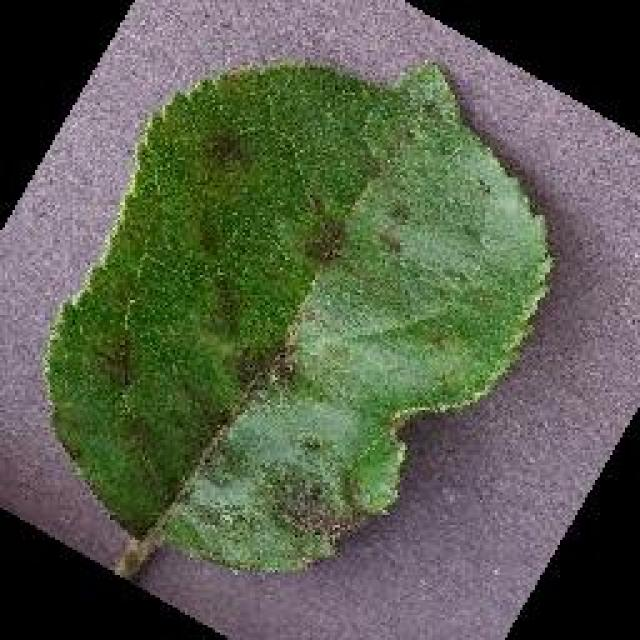apple scab disease: (40, 55, 555, 580)
